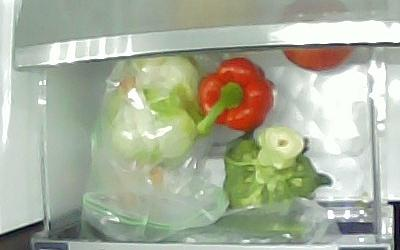apple: (281, 46, 355, 72)
broccoli: (224, 124, 333, 216)
cucumber_vinyl: (86, 216, 315, 244)
lettuce_vinyl: (100, 55, 200, 166)
paprika: (194, 57, 274, 138)
